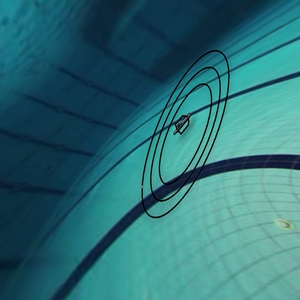circle: (131, 38, 240, 229)
submarine: (168, 106, 198, 140)
